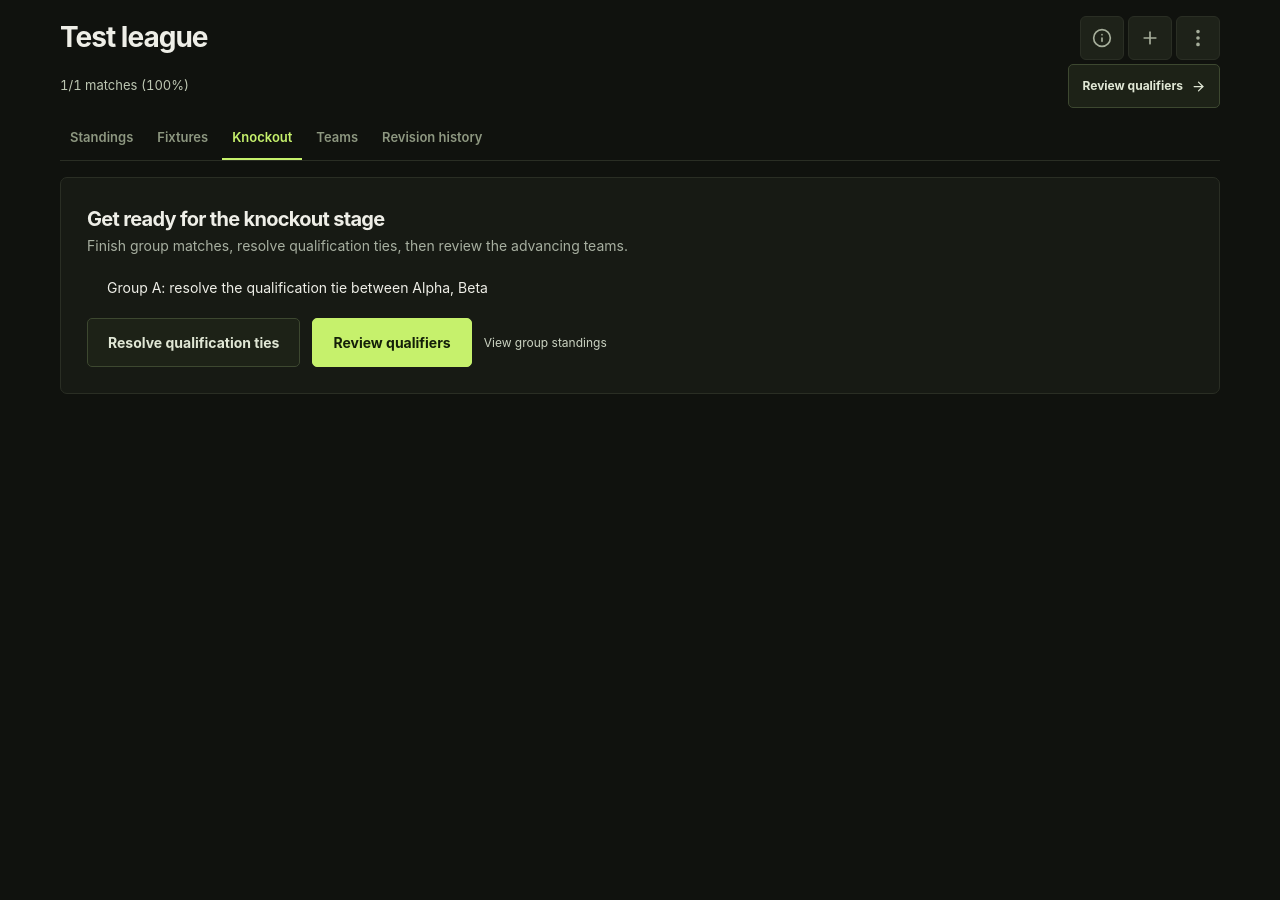
Test case: ready groups open the existing qualifier confirmation without qualifying automatically
The image size is (1280, 900).
Click the button "Review qualifiers" below "Get ready for the knockout stage".
click(392, 343)  # box [312,318,472,367]
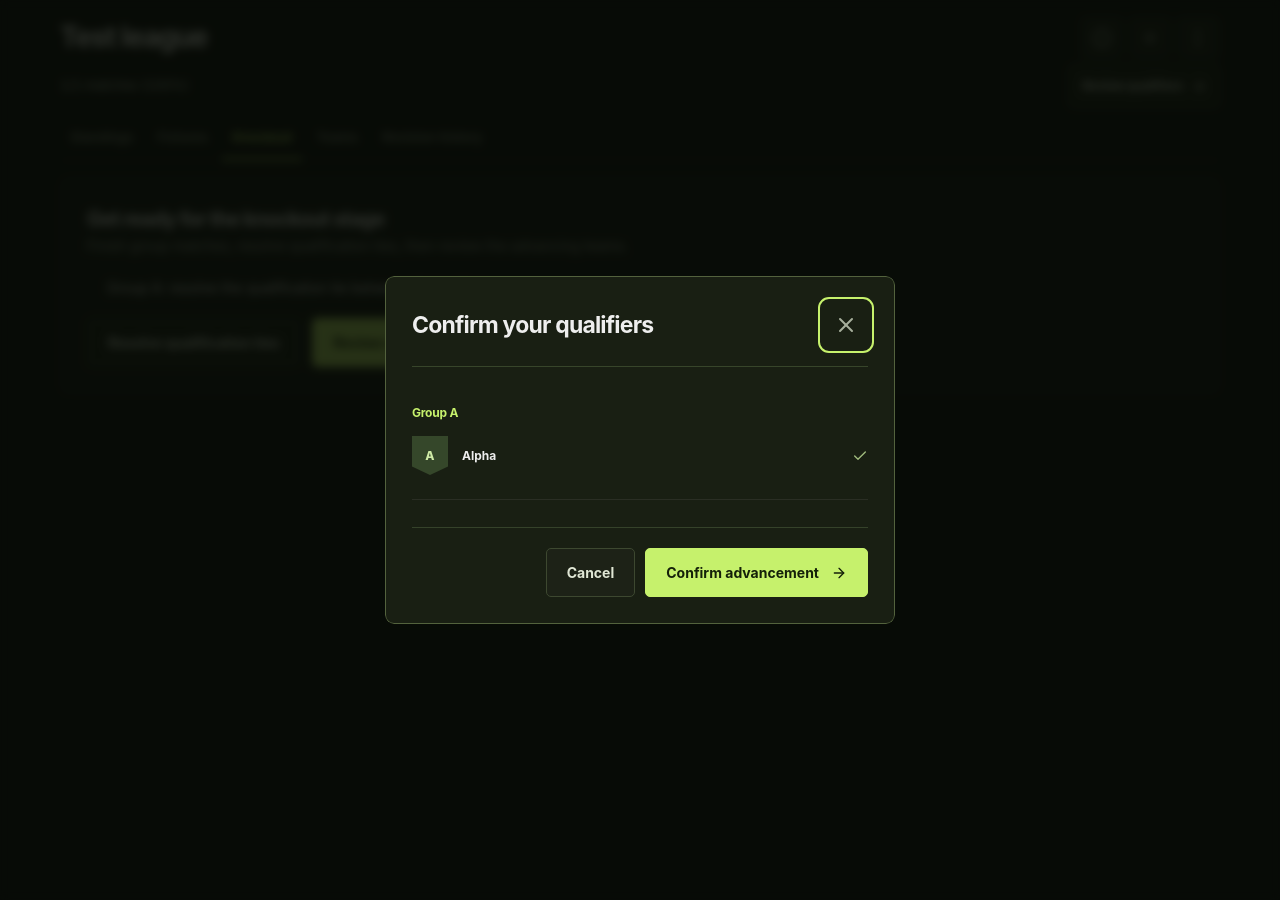
Check: the dialog "Confirm your qualifiers" is shown, box [385,276,895,624]
